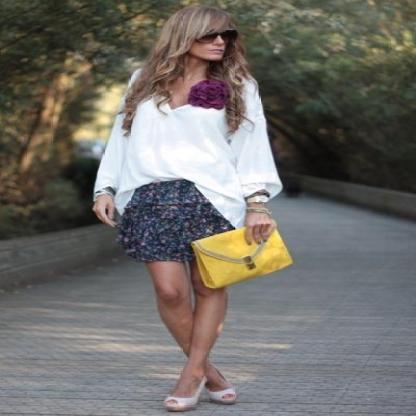bag: (193, 228, 292, 288)
shirt: (94, 74, 282, 229)
shoe: (164, 384, 237, 407)
skirt: (112, 179, 235, 265)
sunglass: (200, 30, 236, 48)
